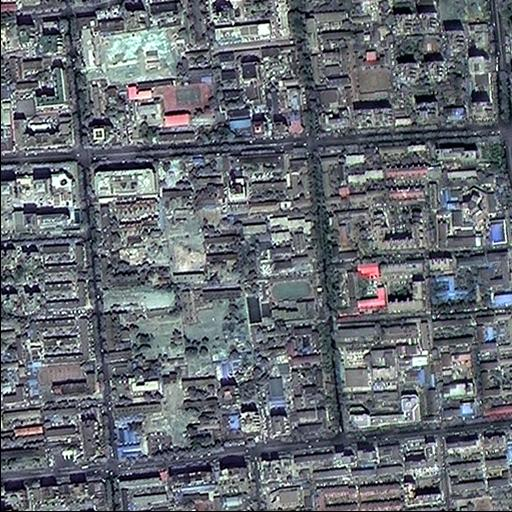school: (127, 73, 217, 127), (259, 276, 324, 320), (349, 46, 396, 95)
